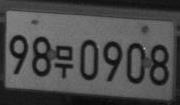0: (126, 41, 146, 83), (79, 39, 99, 80)
8: (148, 43, 169, 86), (31, 35, 51, 77)
9: (102, 40, 123, 81), (8, 33, 28, 76)
무: (54, 45, 74, 78)
